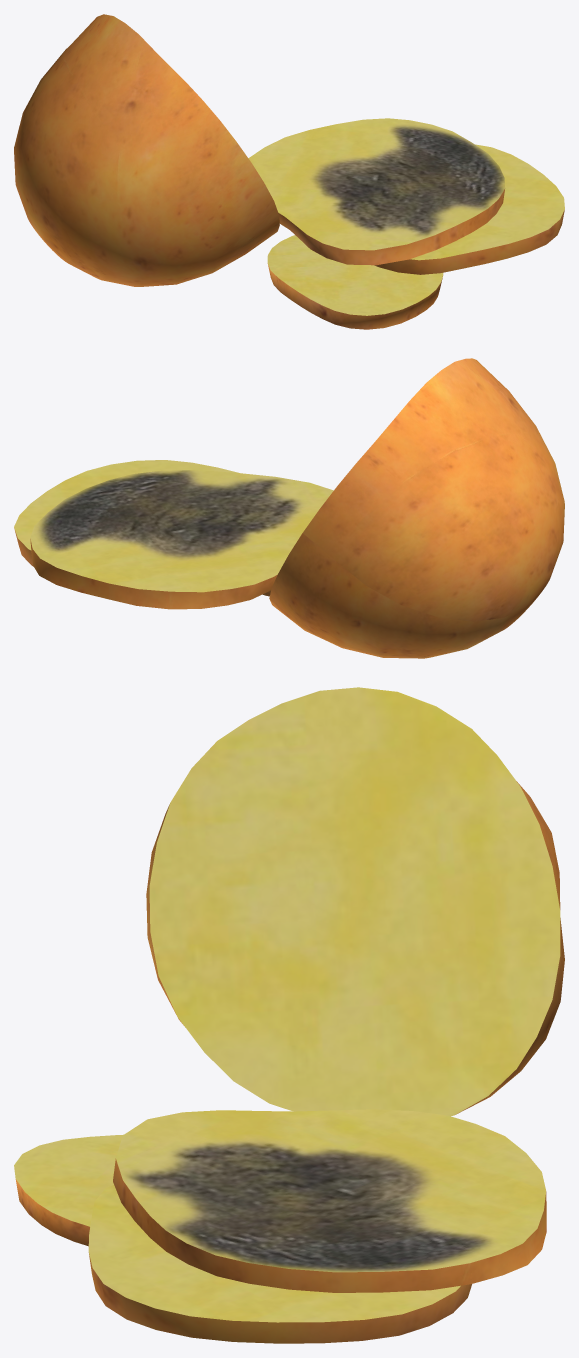
File: StainedPotato_Geo_V0.fbx
3 views of the same model, one above another, from view 1: azimuth 30°, elevation 25°; view 2: azimuth 150°, elevation 25°; view 3: azimuth 270°, elevation 25° (orthographic). The views are drawn at different scales.
Visible parts, largest first — view 1: Potato_half, Potato_link_reaction, Potato_01, Potato_02; view 2: Potato_half, Potato_link_reaction, Potato_02; view 3: Potato_half, Potato_link_reaction, Potato_02, Potato_01.
Boxes of the visible parts, <box> form: Potato_half: <box>14,14,279,286</box>; Potato_link_reaction: <box>248,118,505,265</box>; Potato_01: <box>267,235,443,329</box>; Potato_02: <box>374,144,564,274</box>; Potato_half: <box>269,358,564,658</box>; Potato_link_reaction: <box>30,470,333,609</box>; Potato_02: <box>14,460,239,566</box>; Potato_half: <box>146,687,564,1116</box>; Potato_link_reaction: <box>113,1109,546,1292</box>; Potato_02: <box>88,1185,471,1343</box>; Potato_01: <box>14,1134,123,1246</box>.
Bounding box in the file's own units: 18.05 × 9.2 × 11.71.
Materials: 1 (1 with a texture image).
